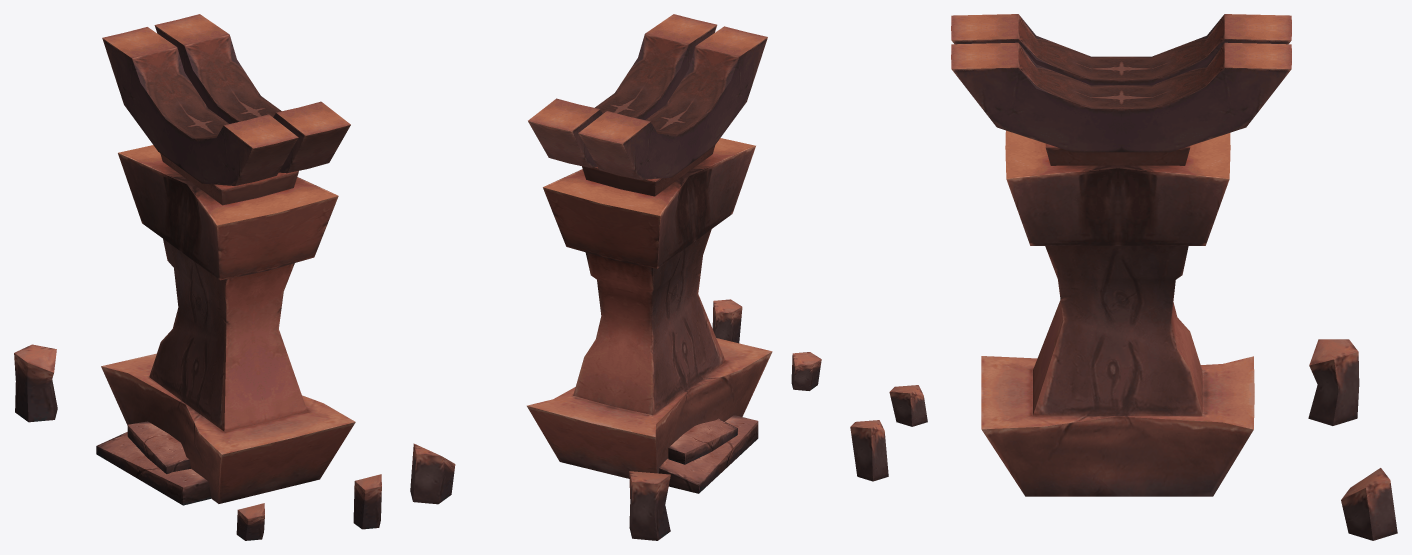
The model's file is shipai02.FBX.
3 renders of one model, left to right at view 1: azimuth 30°, elevation 25°; view 2: azimuth 150°, elevation 25°; view 3: azimuth 270°, elevation 25°, orthographic. The views are drawn at different scales.
Visible parts, largest first — view 1: shipai02; view 2: shipai02; view 3: shipai02.
Part boxes in pixels (x1,y1,x2,y2): shipai02: [14, 14, 381, 540]; shipai02: [410, 14, 821, 540]; shipai02: [850, 14, 1397, 540].
Size of the model in its own units: 229 by 392 by 338.
